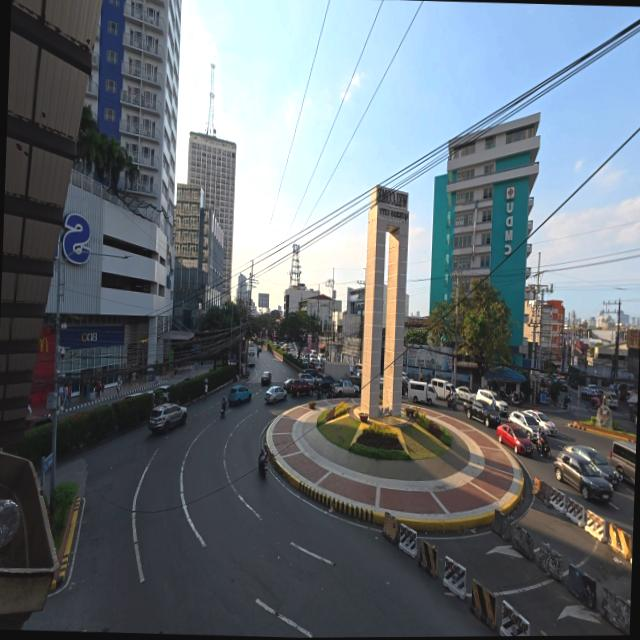car: (554, 441, 619, 503), (493, 410, 542, 458), (466, 387, 509, 425), (144, 403, 184, 435), (224, 383, 252, 406), (282, 377, 311, 398), (263, 383, 287, 404)
trucks: (331, 378, 360, 398)
vans: (405, 381, 436, 405)
